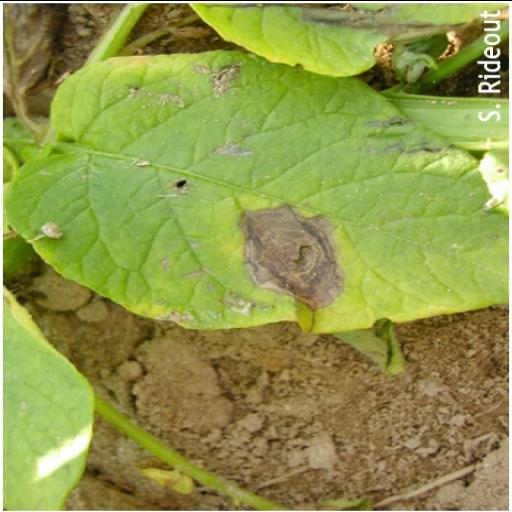Early Blight: (4, 48, 512, 332)
